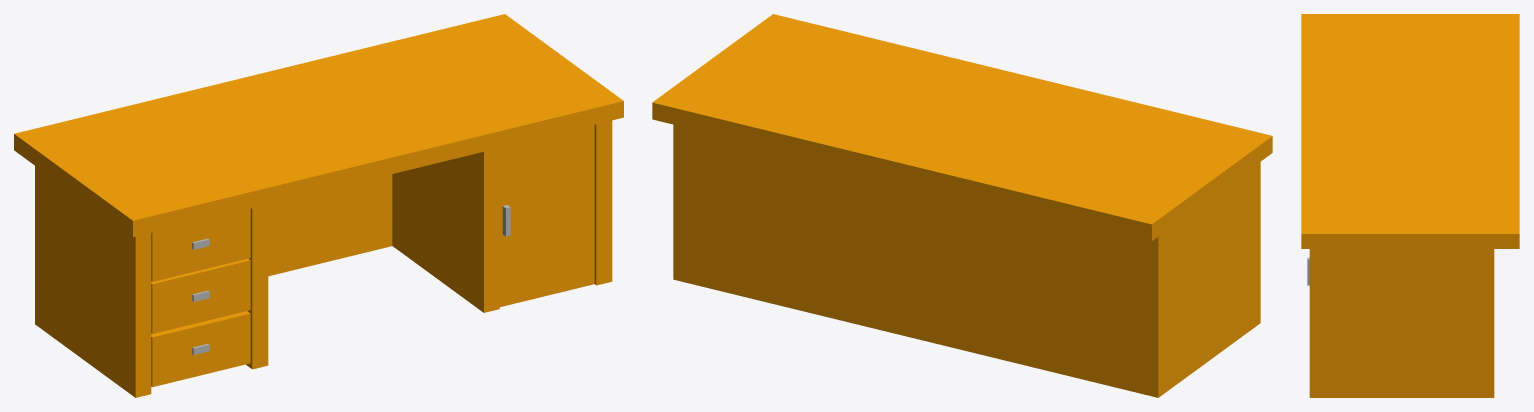
The model's file is T_Desk.fbx.
3 renders of one model, left to right at view 1: azimuth 30°, elevation 25°; view 2: azimuth 150°, elevation 25°; view 3: azimuth 270°, elevation 25°, orthographic. The views are drawn at different scales.
Parts seen in each view (by area): view 1: Cube__1_, Cube__3_, Cube__12_, Cube__5_, Cube, Cube__10_, Cube__8_, Cube__6_, Cube__4_, Cube__2_; view 2: Cube, Cube__1_, Cube__3_; view 3: Cube__1_, Cube__2_, Cube.
Boxes of the visible parts, left/top/right/bottom form: Cube__1_: left=14, top=14, right=623, bottom=237; Cube__3_: left=44, top=173, right=151, bottom=397; Cube__12_: left=499, top=125, right=594, bottom=306; Cube__5_: left=392, top=148, right=499, bottom=312; Cube: left=35, top=166, right=392, bottom=330; Cube__10_: left=151, top=311, right=250, bottom=387; Cube__8_: left=151, top=258, right=250, bottom=333; Cube__6_: left=151, top=208, right=250, bottom=281; Cube__4_: left=246, top=204, right=268, bottom=369; Cube__2_: left=594, top=120, right=612, bottom=285; Cube: left=673, top=124, right=1167, bottom=397; Cube__1_: left=652, top=14, right=1272, bottom=241; Cube__3_: left=1167, top=162, right=1260, bottom=390; Cube__1_: left=1301, top=14, right=1519, bottom=248; Cube__2_: left=1309, top=249, right=1477, bottom=397; Cube: left=1477, top=249, right=1494, bottom=397.
Bounding box in the file's own units: 310 × 110 × 130.
